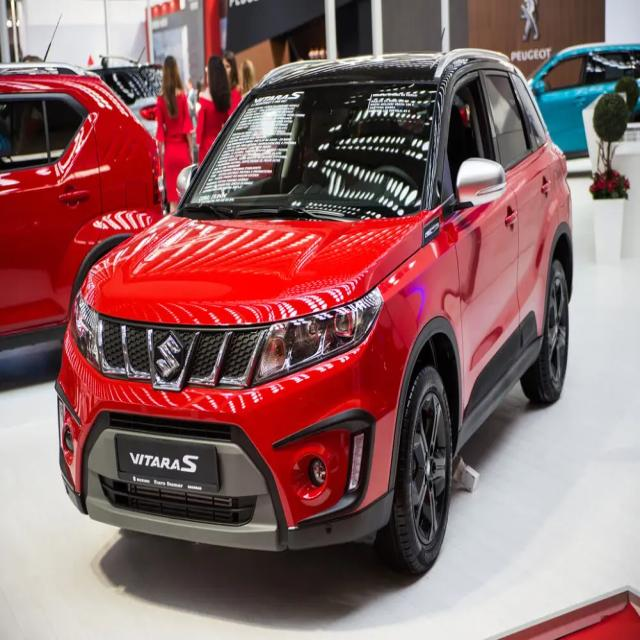SUV: (45, 49, 572, 592)
